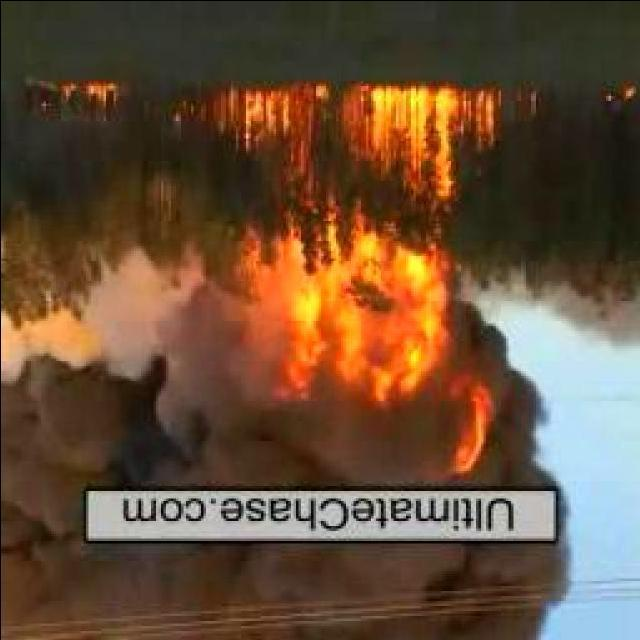Fire: (254, 243, 488, 477), (195, 83, 496, 206), (48, 78, 128, 122)
